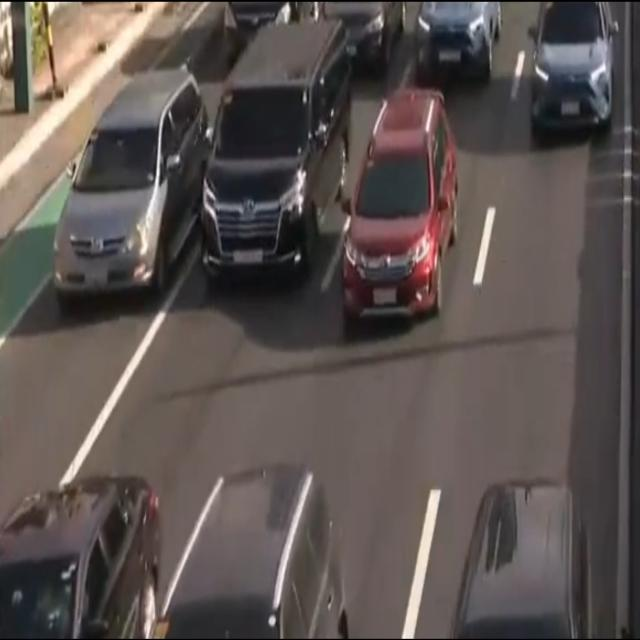SUV: (57, 71, 209, 304), (154, 462, 350, 640), (344, 107, 458, 332), (445, 481, 598, 640), (531, 0, 613, 135)
Sedan: (0, 472, 166, 640)
Van: (196, 22, 348, 295)
